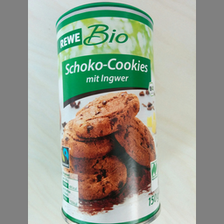chocolate: (54, 2, 161, 224)
